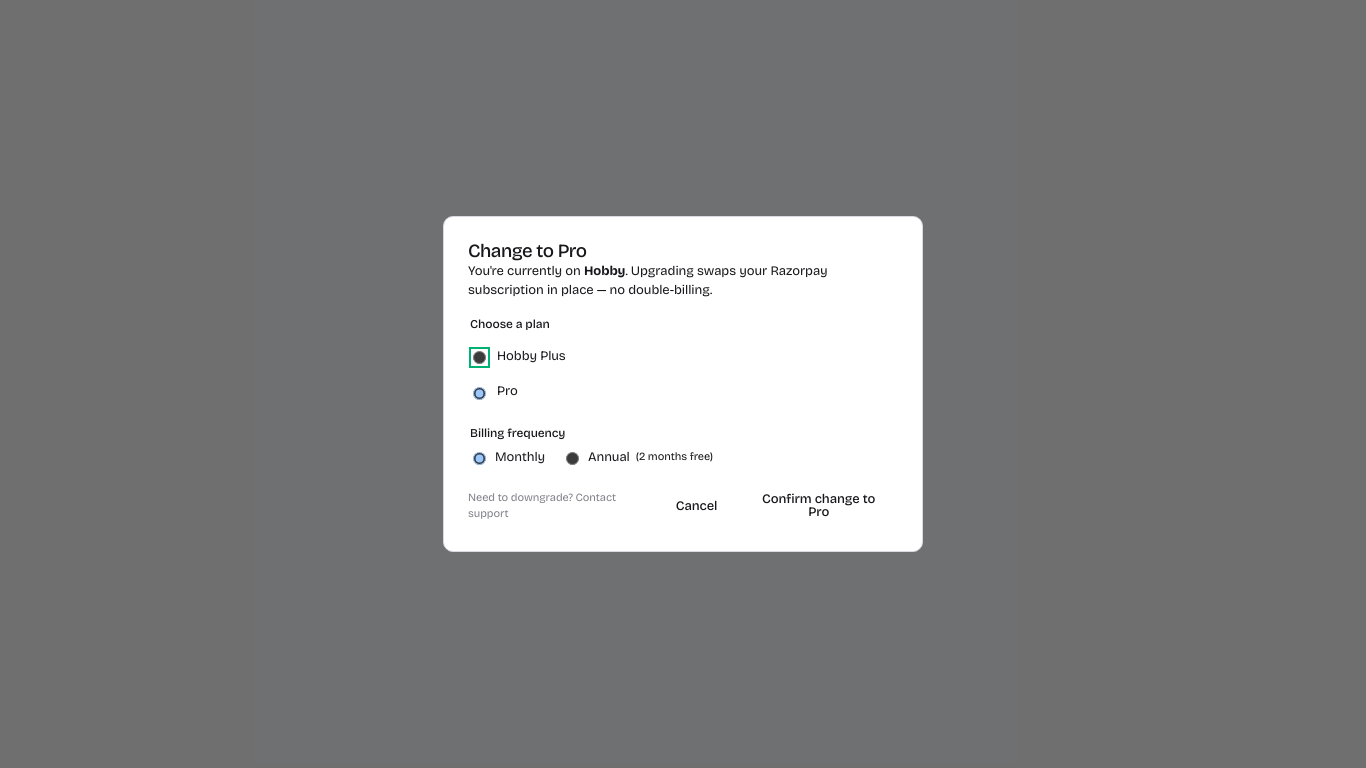
Test: ChangePlanModal — confirm flow › renders an inline error on a 4xx with no support fallback
The image size is (1366, 768).
Click the button with test id "change-plan-confirm".
click(819, 506)  # box [739,485,898,527]
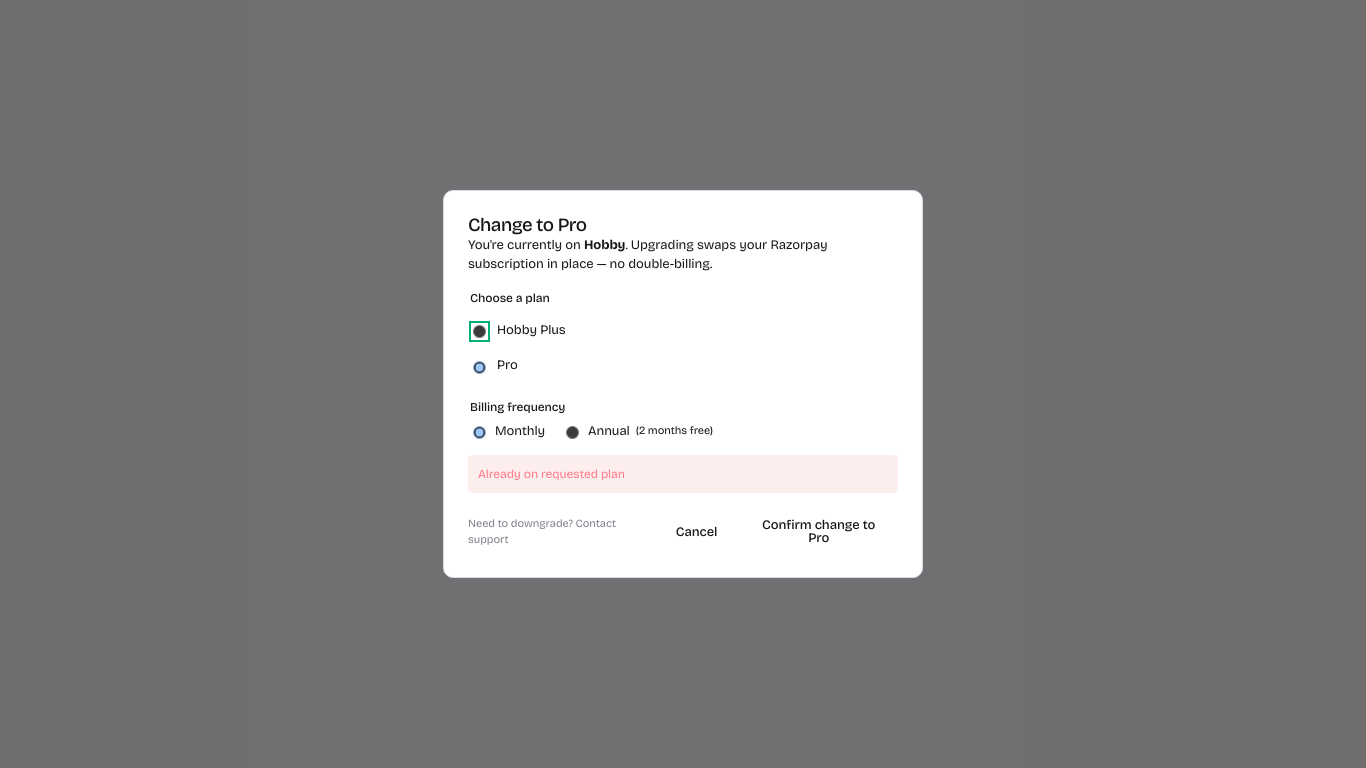
Result: the message with test id "change-plan-error" reads "Already on requested plan" at [478,467,625,481]
